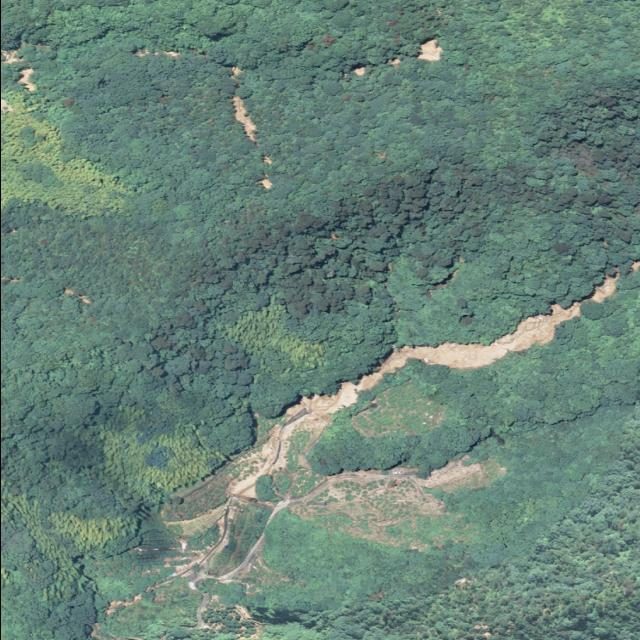landslide: (269, 302, 581, 447), (589, 275, 618, 301), (258, 442, 282, 471), (228, 473, 258, 496)
